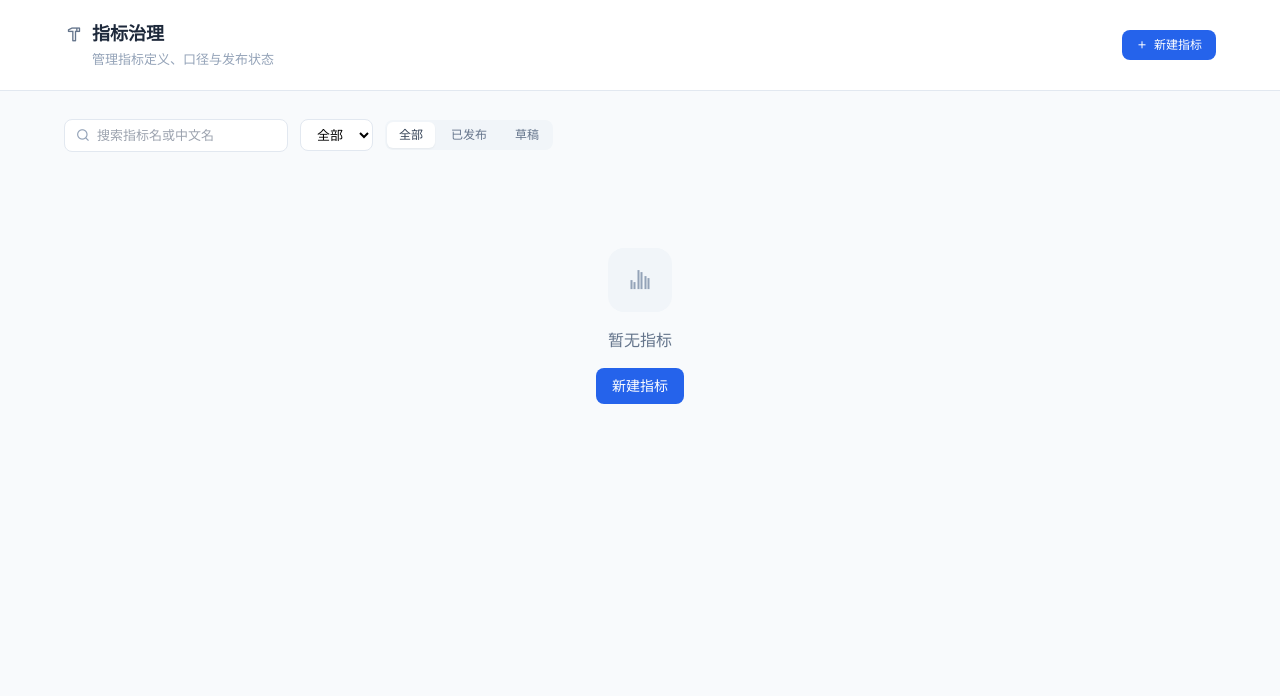
Test case: MetricsPage multi Tableau bindings › 新建表单可以添加第二个 binding 并选择 primary
Click the button "新建指标" in the row of "管理指标定义、口径与发布状态" at (1169, 45), box [1122,30,1216,60]
(page scrolled)
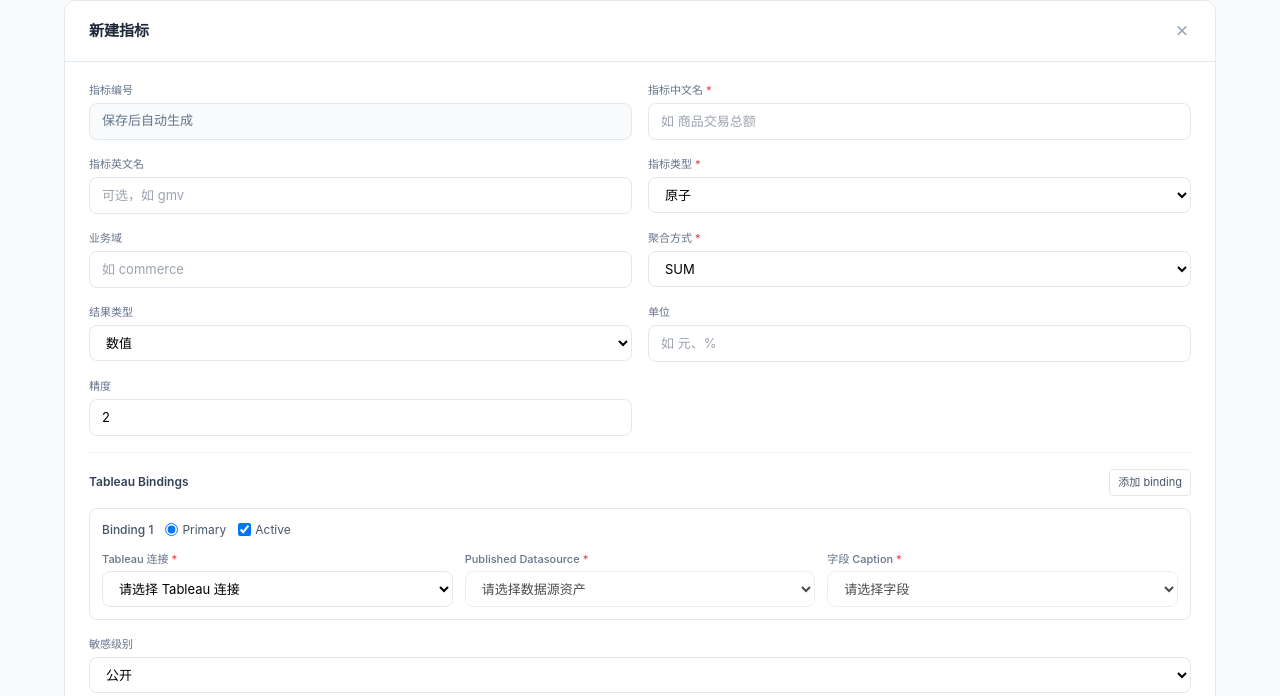
Click the button "添加 binding" at (1150, 482), box [1109,469,1191,496]
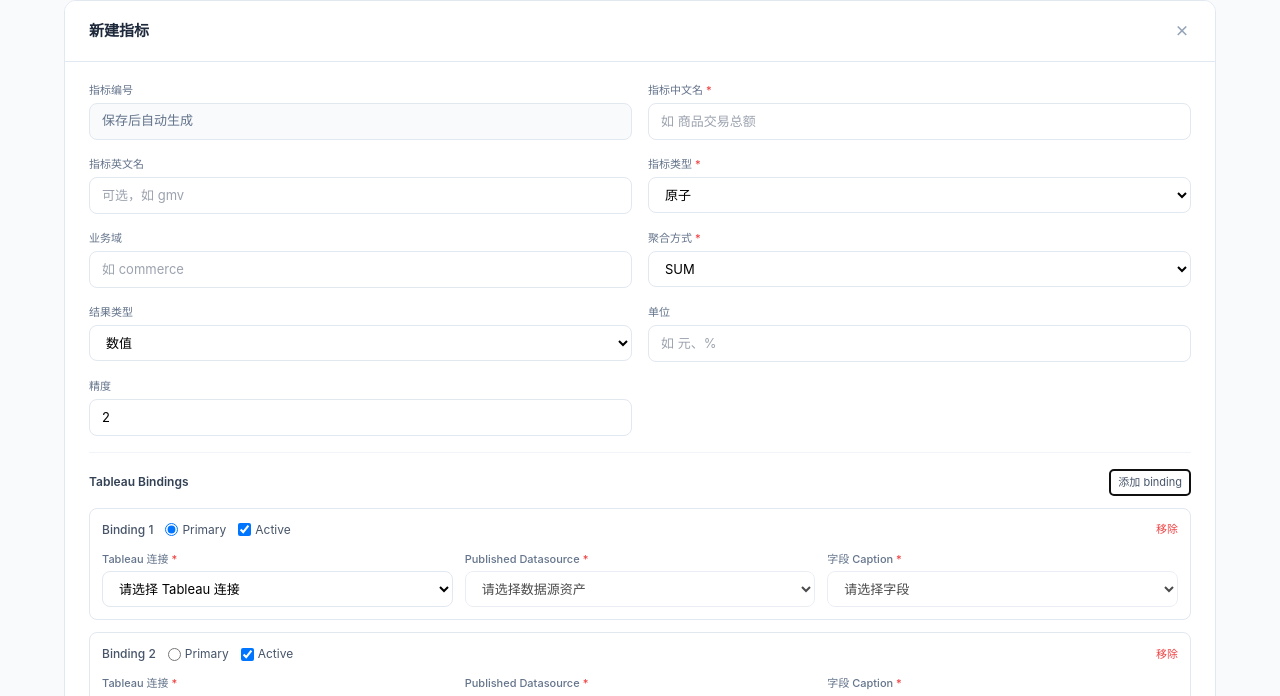
Result: the text "Binding 2" is shown at [102,645,156,663]
Click the 2nd radio button labelled "Primary" at (174, 654), box [168,648,181,660]
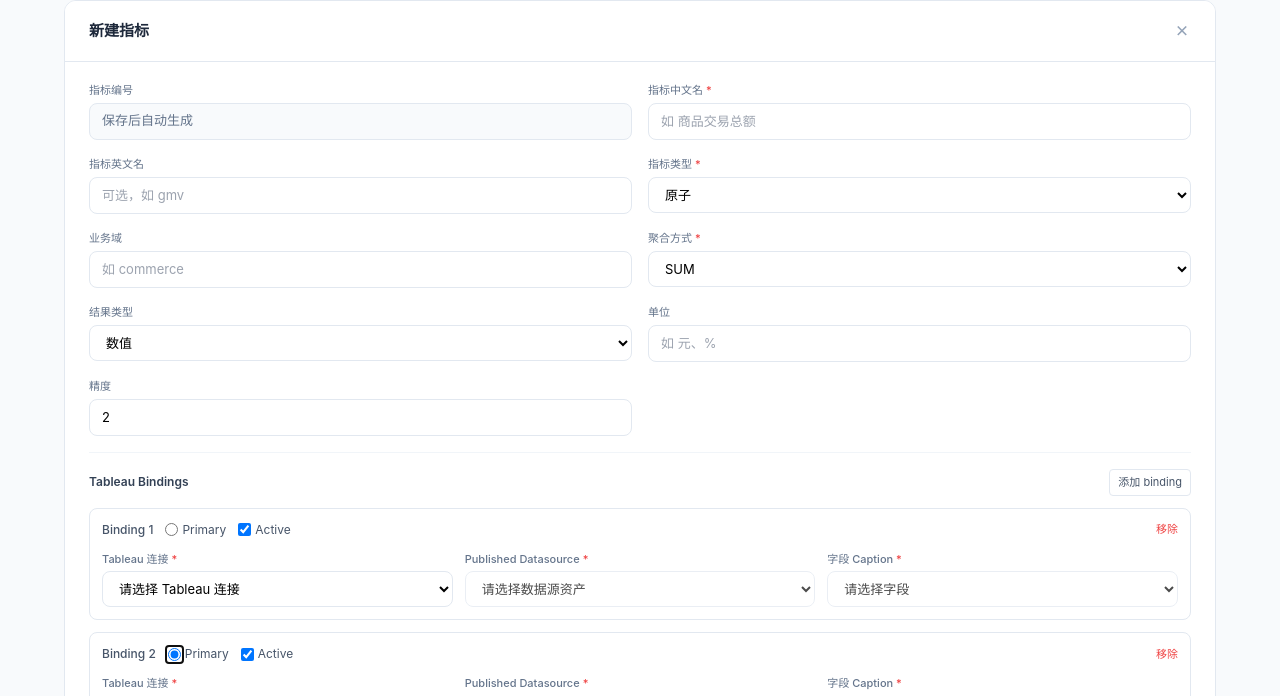
Result: the 2nd radio button labelled "Primary" is checked at [168,648,181,660]
Result: the number of checkboxes labelled "Active" is 2 at [238,523,251,536]; [241,648,254,660]
Result: the 1st radio button labelled "Primary" is not checked at [165,523,178,536]
